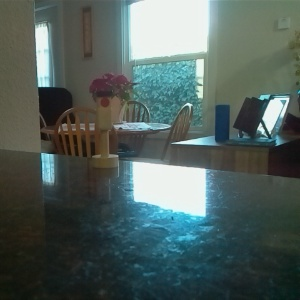traffic light red: (88, 89, 120, 169)
